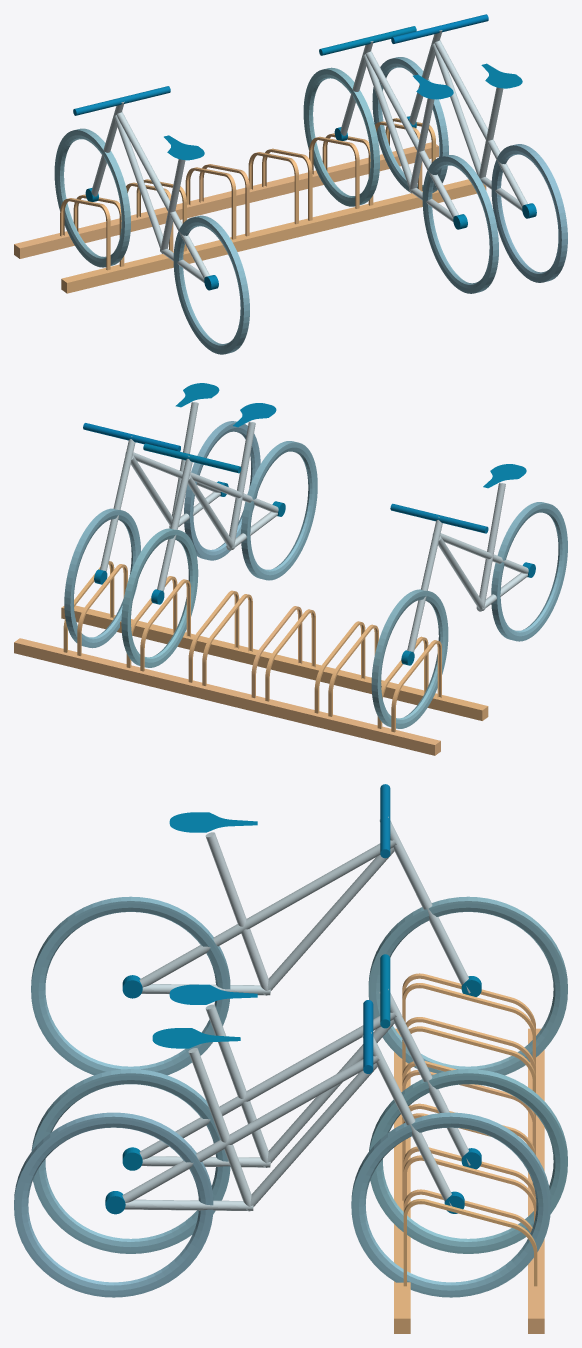
File: BicycleRack.fbx
3 renders of one model, top to bottom at view 1: azimuth 30°, elevation 25°; view 2: azimuth 150°, elevation 25°; view 3: azimuth 270°, elevation 25°, orthographic. The views are drawn at different scales.
Visible parts, largest first — view 1: BicycleRack; view 2: BicycleRack; view 3: BicycleRack.
Part boxes in pixels (left/top/right/bottom): BicycleRack: left=14, top=14, right=567, bottom=354; BicycleRack: left=14, top=383, right=567, bottom=755; BicycleRack: left=14, top=784, right=567, bottom=1333.
Size of the model in its own units: 205 by 86.75 by 166.
